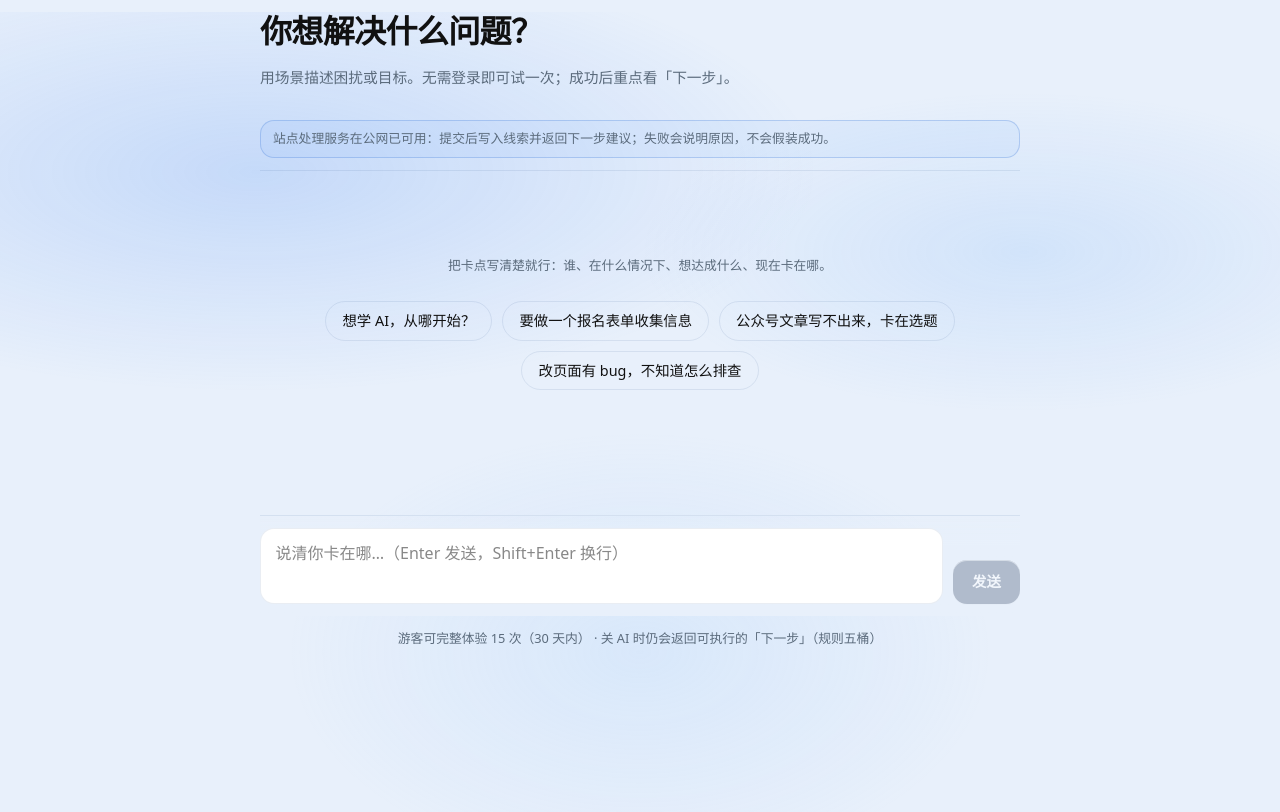
Scenario: 卡口对话页 › 连续两次提问各自成对，可重新开始清空对话
In the text box named "描述你的卡点": [601, 566] box top-left (260, 528), bottom-right (943, 604), type "想学 AI 写周报，每天只有半小时，不知道从哪开始"
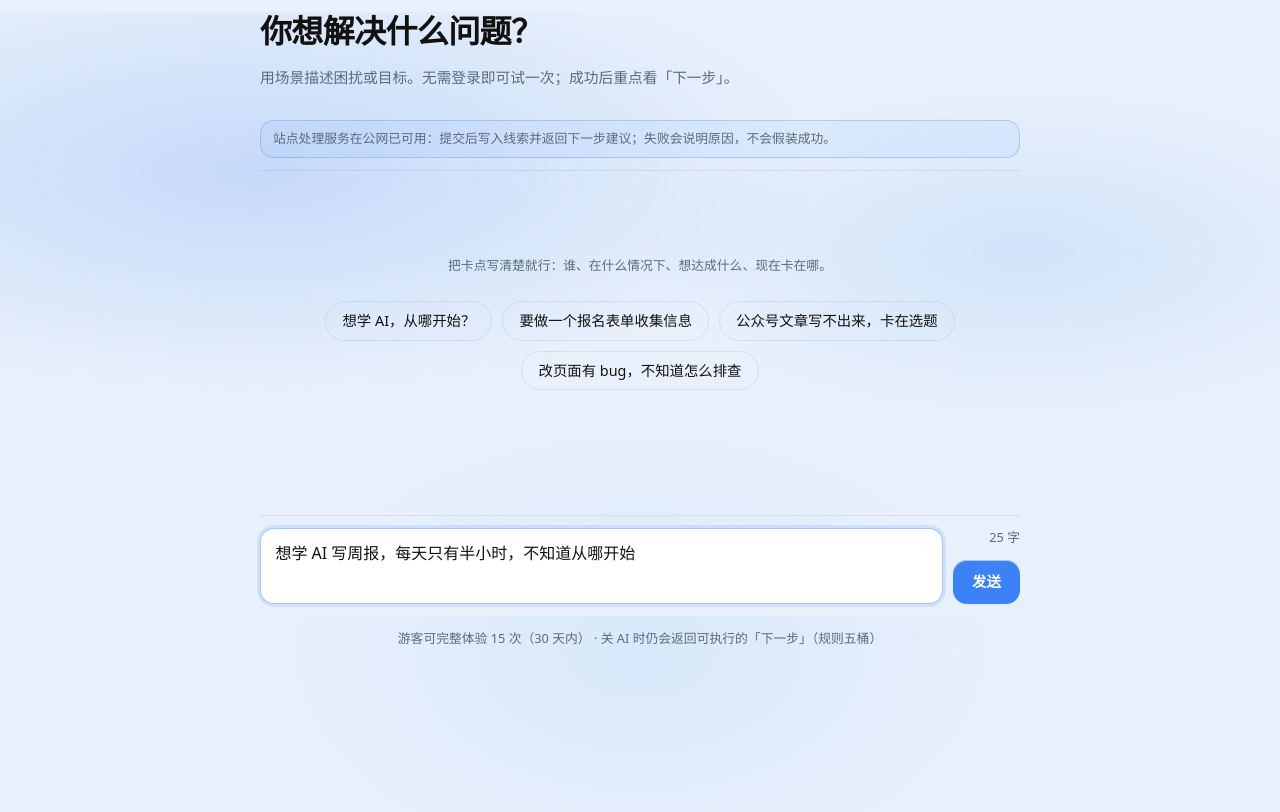
Click the button "发送": [986, 582] box top-left (953, 560), bottom-right (1020, 604)
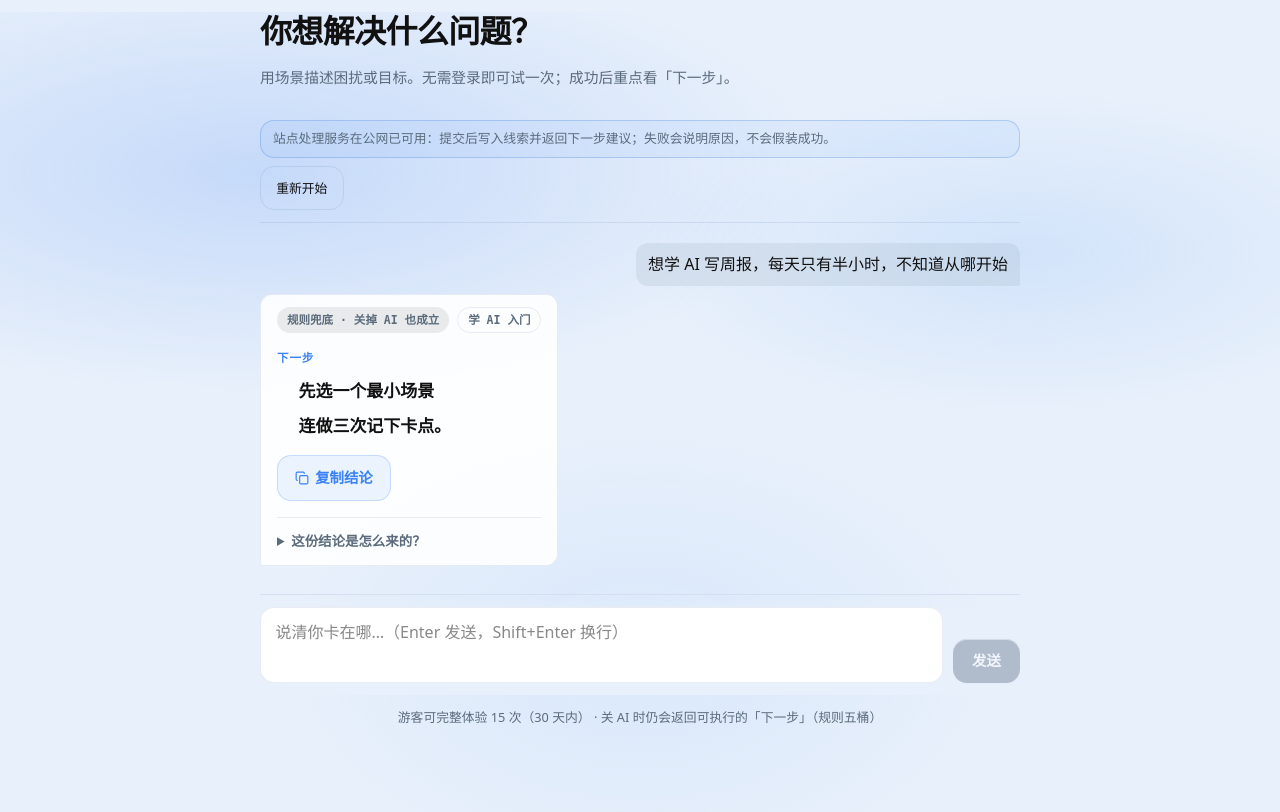
Expected: the number of elements with class "chat-answer" is 1, top-left (260, 294), bottom-right (558, 566)
In the text box named "描述你的卡点": [601, 645] box top-left (260, 607), bottom-right (943, 683), type "第二个卡点：公众号选题总是定不下来"
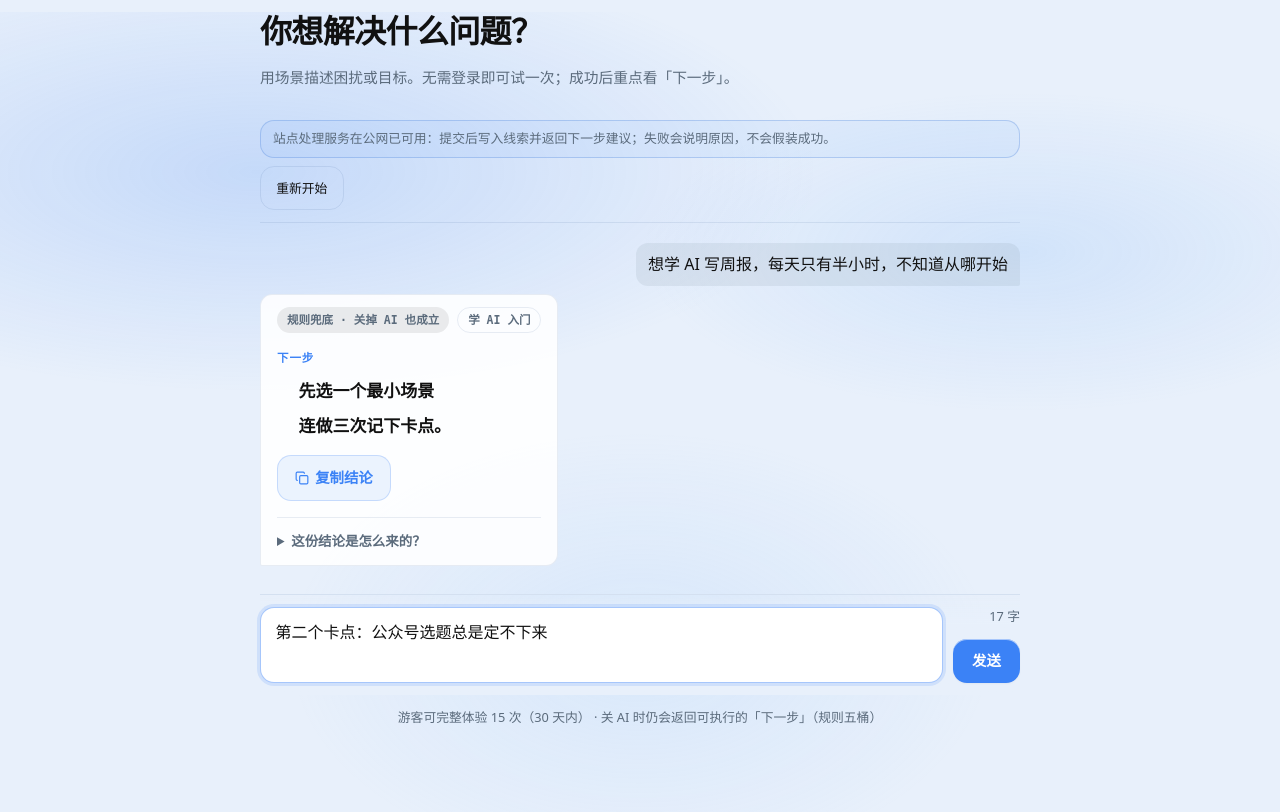
Click the button "发送": [986, 661] box top-left (953, 639), bottom-right (1020, 683)
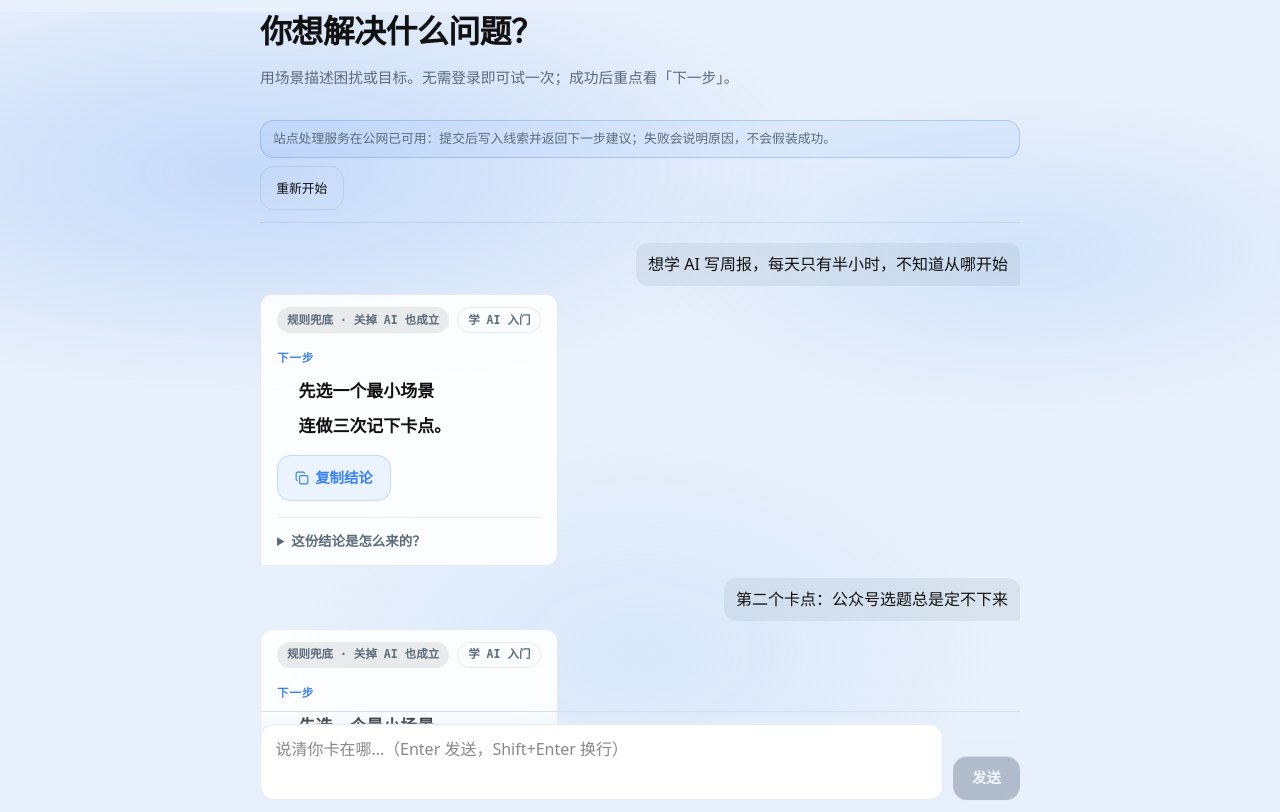
Expected: the number of elements with class "assistant-msg-user" is 2, top-left (636, 243), bottom-right (1020, 286); top-left (724, 578), bottom-right (1020, 621)
Click the button "重新开始": [302, 188] box top-left (260, 166), bottom-right (344, 210)
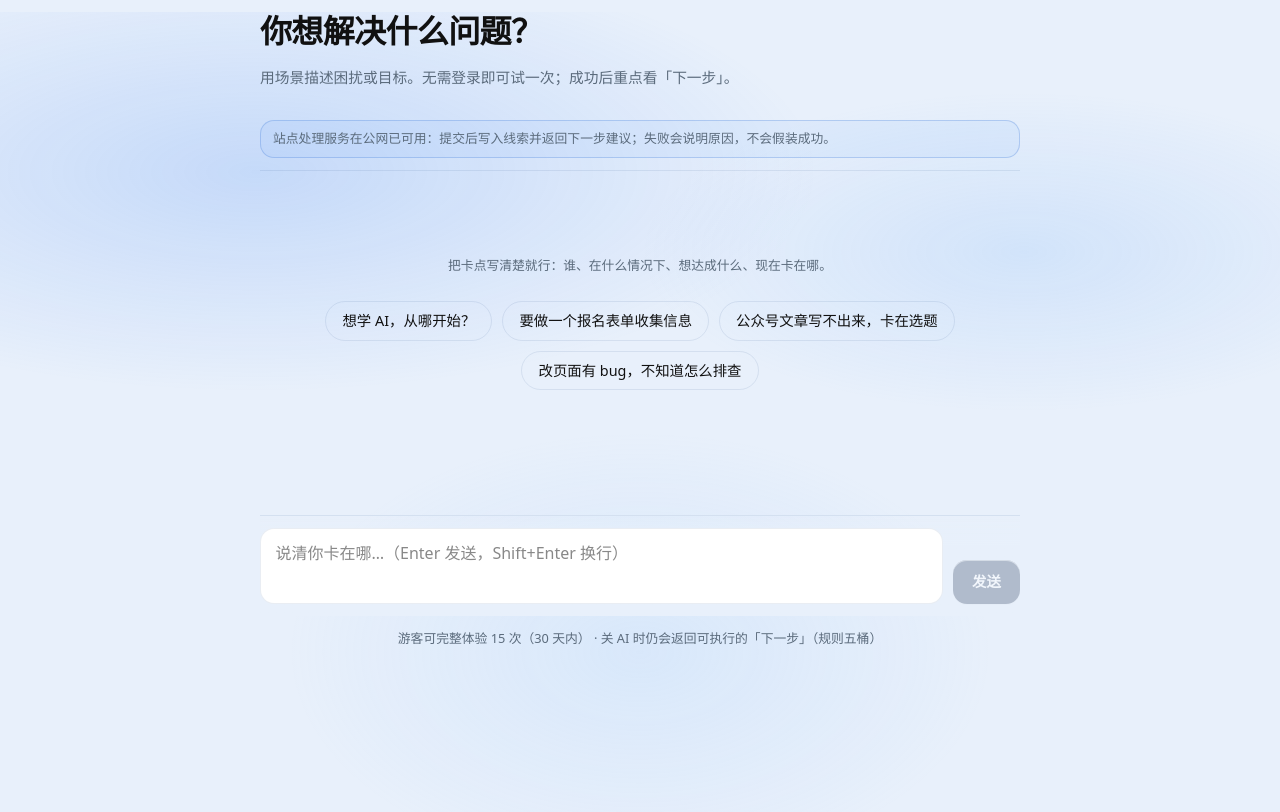
Expected: no elements with class "assistant-msg-user" are shown
Expected: the button "想学 AI，从哪开始？" is shown, top-left (325, 301), bottom-right (492, 341)
